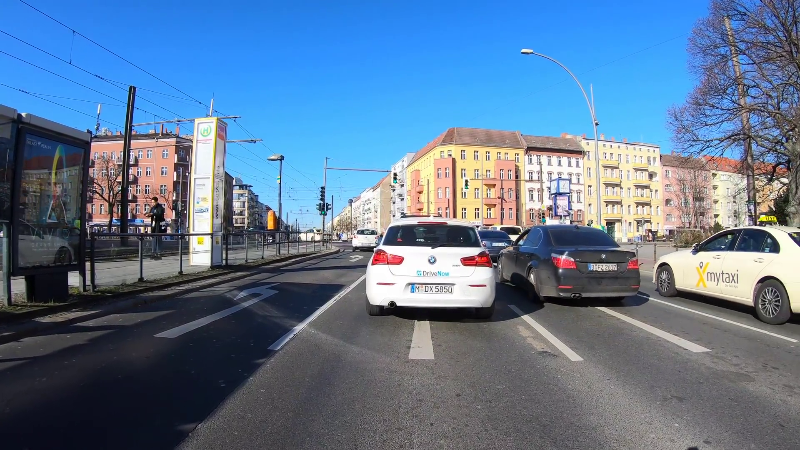Plate: (408, 282, 453, 294), (585, 262, 619, 271), (491, 242, 506, 246)
